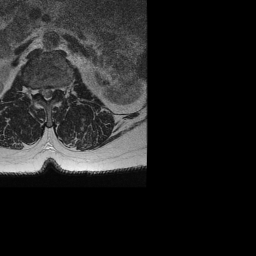CCS_normal: (45, 82, 49, 108)
LFS_stenosis: (55, 79, 61, 95)
LLS_stenosis: (50, 80, 55, 101)
RFS_normal: (33, 80, 39, 100)
RLS_normal: (39, 80, 44, 102)
